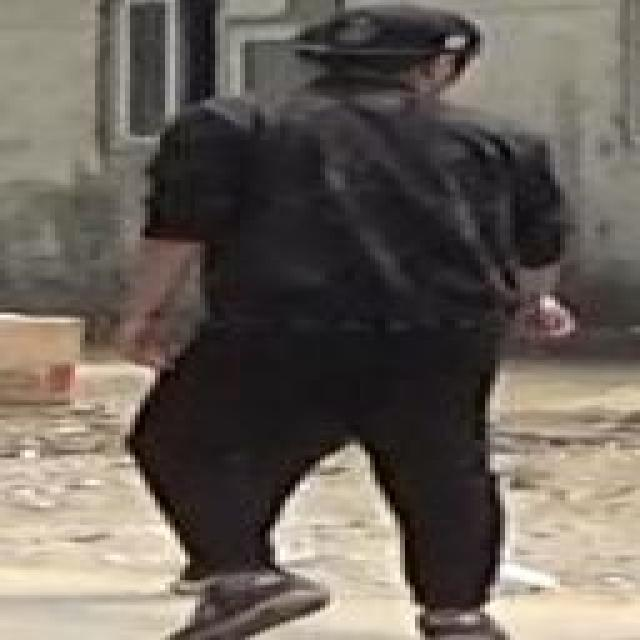adult: (82, 0, 579, 634)
